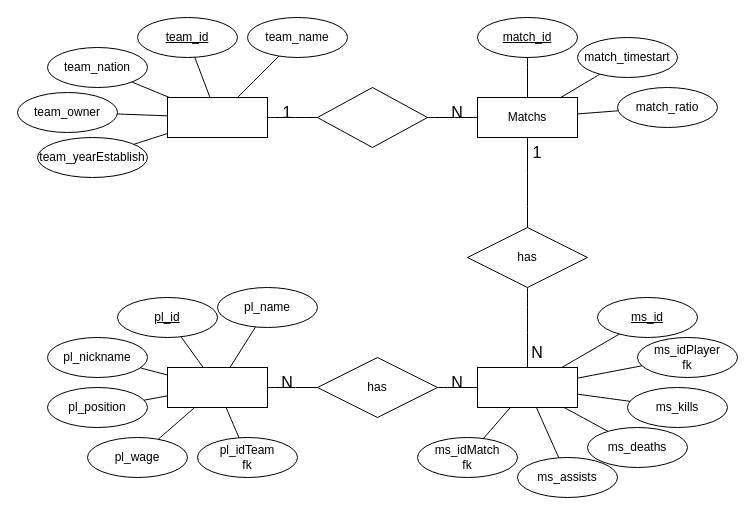
The diagram is 755 pixels wide and 515 high, and some of its shapes have lost their labels. The centre of each missing label's shape, as x and y in pixels:
Match_Statistics: the point at 527,387
play: the point at 372,117
Players: the point at 217,387
Teams: the point at 217,117
